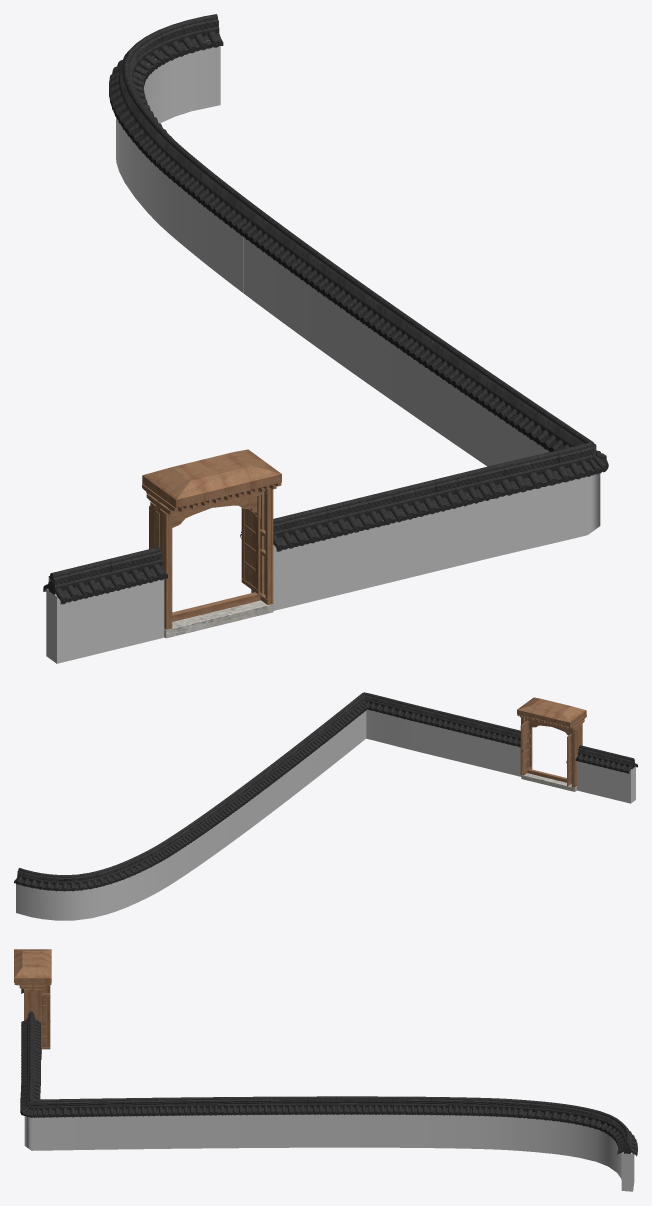
The model's file is SM_HBJ_HG_StoneWallH_Splines_23.fbx.
3 views of the same model, one above another, from view 1: azimuth 30°, elevation 25°; view 2: azimuth 150°, elevation 25°; view 3: azimuth 270°, elevation 25° (orthographic). The views are drawn at different scales.
Parts seen in each view (by area): view 1: SM_HBJ_HG_StoneWallH_Splines_23; view 2: SM_HBJ_HG_StoneWallH_Splines_23; view 3: SM_HBJ_HG_StoneWallH_Splines_23.
Part boxes in pixels (x1,y1,x2,y2): SM_HBJ_HG_StoneWallH_Splines_23: (43, 14, 608, 663); SM_HBJ_HG_StoneWallH_Splines_23: (14, 692, 637, 920); SM_HBJ_HG_StoneWallH_Splines_23: (14, 949, 637, 1191).
Size of the model in its own units: 1503 by 2073 by 315.
